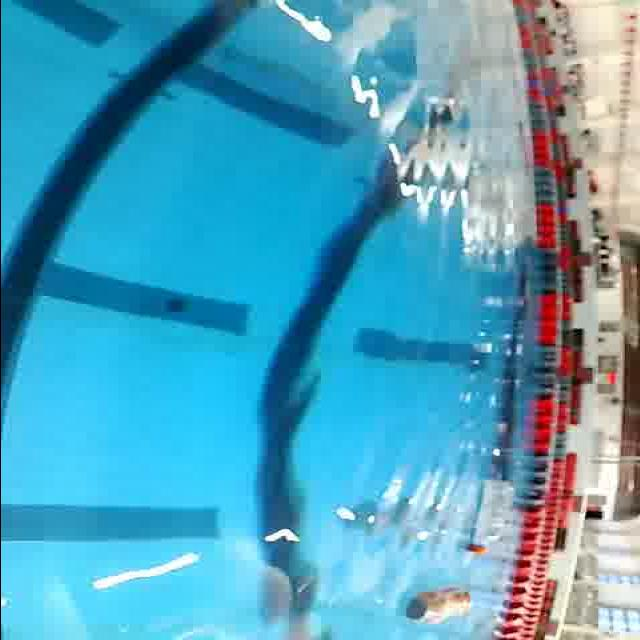Bottle: (458, 474, 520, 560), (400, 582, 478, 626)
